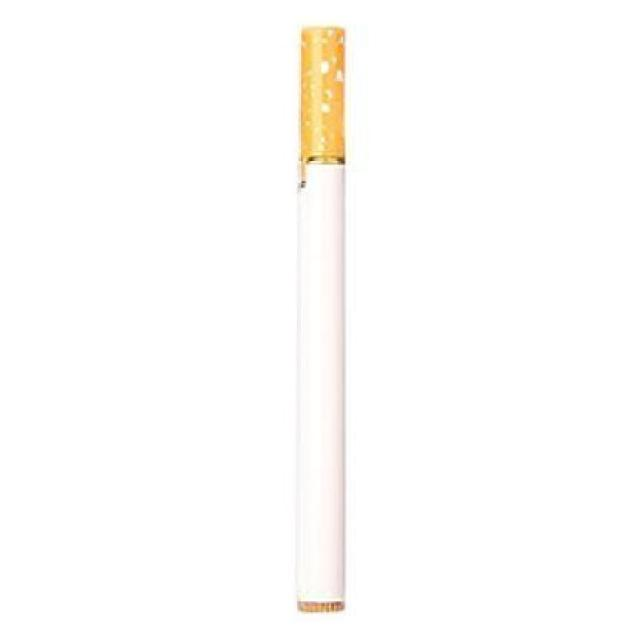trash: (276, 12, 359, 620)
